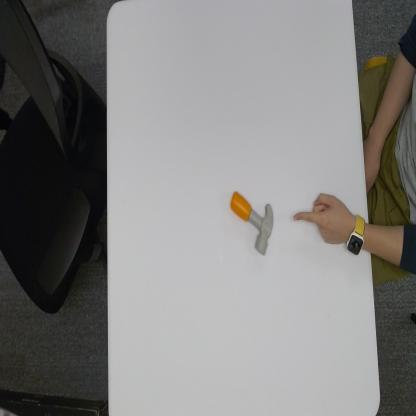Hammer: (230, 190, 274, 256)
Hand: (293, 191, 349, 246)
